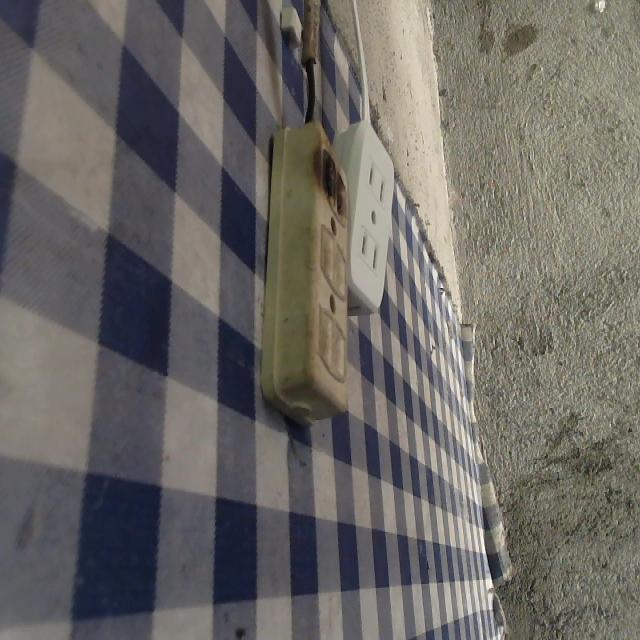-: (307, 144, 365, 219)
